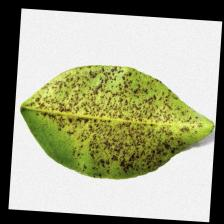canker: (86, 79, 144, 152)
